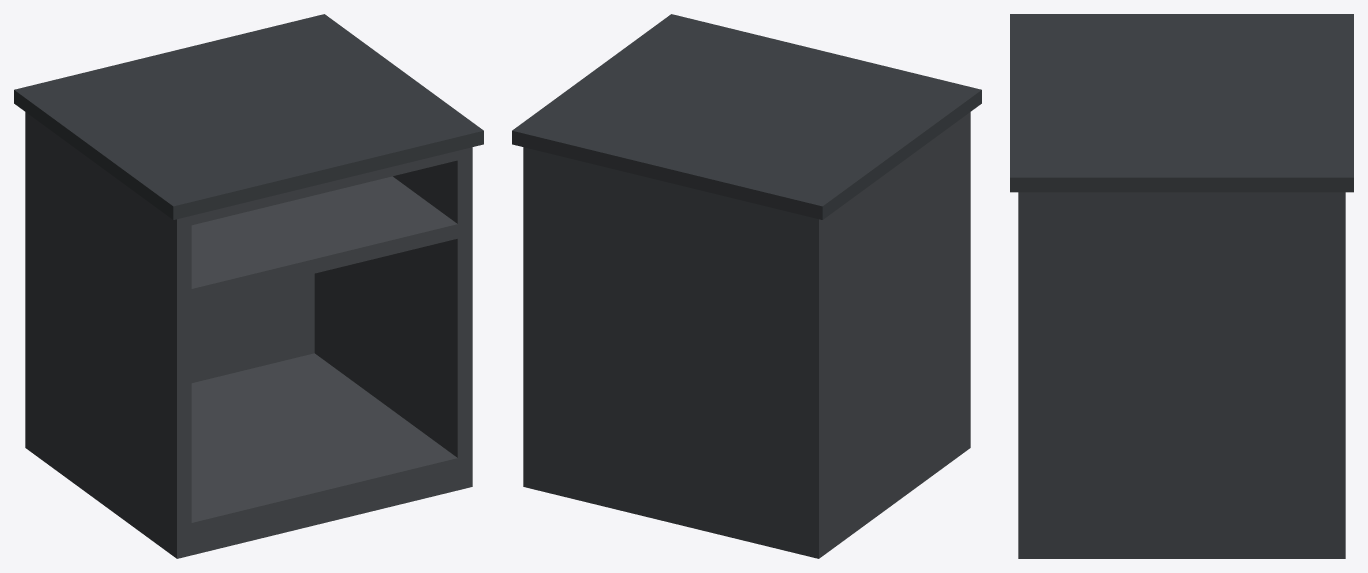
Rendered from BedTable2_C2.fbx.
3 views of the same model, side by side, from view 1: azimuth 30°, elevation 25°; view 2: azimuth 150°, elevation 25°; view 3: azimuth 270°, elevation 25° (orthographic). The views are drawn at different scales.
Parts seen in each view (by area): view 1: BedTable2_C2; view 2: BedTable2_C2; view 3: BedTable2_C2.
Part boxes in pixels (x1,y1,x2,y2): BedTable2_C2: (14, 14, 483, 558); BedTable2_C2: (512, 14, 981, 558); BedTable2_C2: (1010, 14, 1353, 558).
Bounding box in the file's own units: 47.31 × 52 × 42.05.
